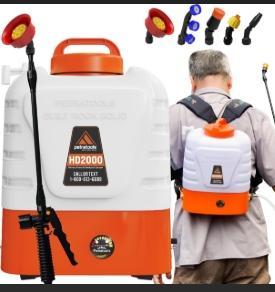PULVERISATEUR: (0, 6, 275, 292)
